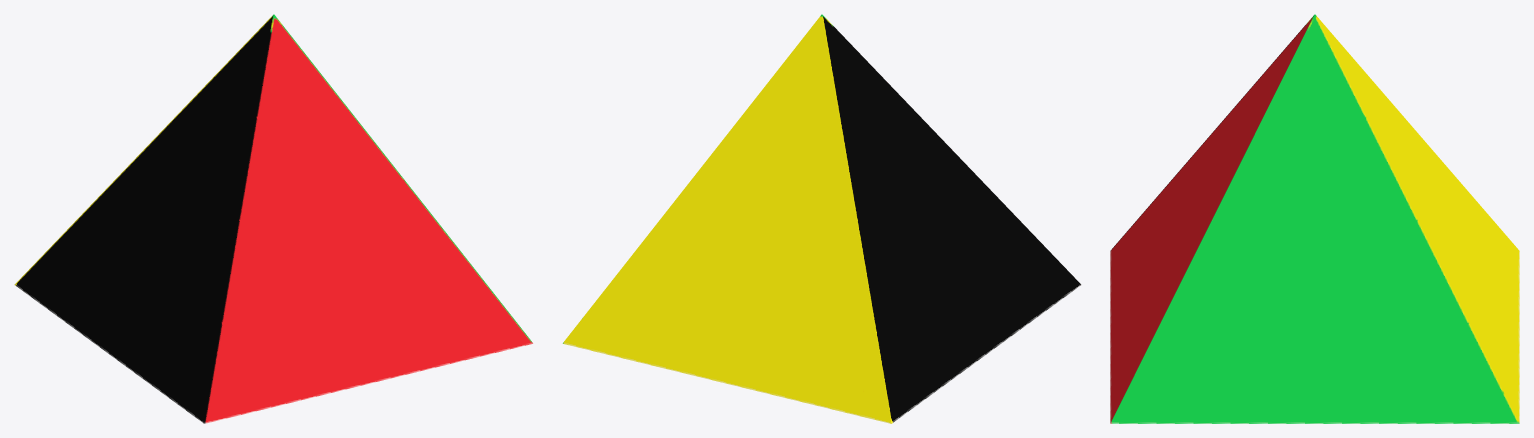
3 views of the same model, side by side, from view 1: azimuth 30°, elevation 25°; view 2: azimuth 150°, elevation 25°; view 3: azimuth 270°, elevation 25° (orthographic). The views are drawn at different scales.
Visible parts, largest first — view 1: mesh_id27; view 2: mesh_id27; view 3: mesh_id27.
Boxes of the visible parts, <box> form: mesh_id27: <box>14,14,533,423</box>; mesh_id27: <box>562,14,1081,423</box>; mesh_id27: <box>1110,14,1519,423</box>.
Bounding box in the file's own units: 0.2609 × 0.2275 × 0.2609.
Materials: 1 (1 with a texture image).
